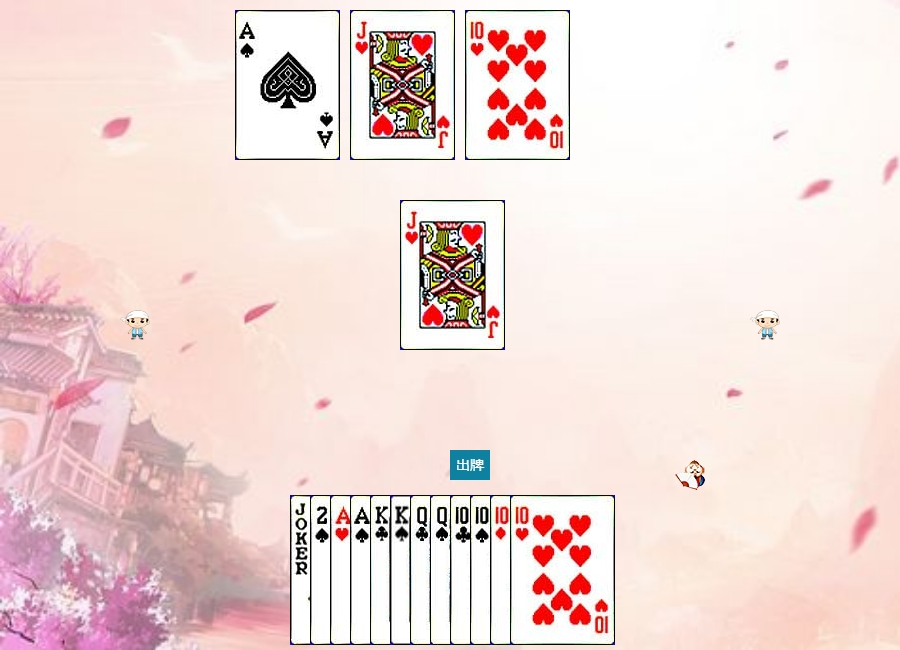10~1: (490, 495, 595, 645)
10~2: (450, 495, 555, 645)
10~3: (465, 10, 570, 160), (510, 495, 615, 645)
10~4: (470, 495, 575, 645)
11~3: (350, 10, 455, 160), (400, 200, 505, 350)
12~2: (410, 495, 515, 645)
12~4: (430, 495, 535, 645)
13~2: (370, 495, 475, 645)
13~4: (390, 495, 495, 645)
14~3: (330, 495, 435, 645)
14~4: (235, 10, 340, 160), (350, 495, 455, 645)
15~4: (310, 495, 415, 645)
17~3: (290, 495, 395, 645)
